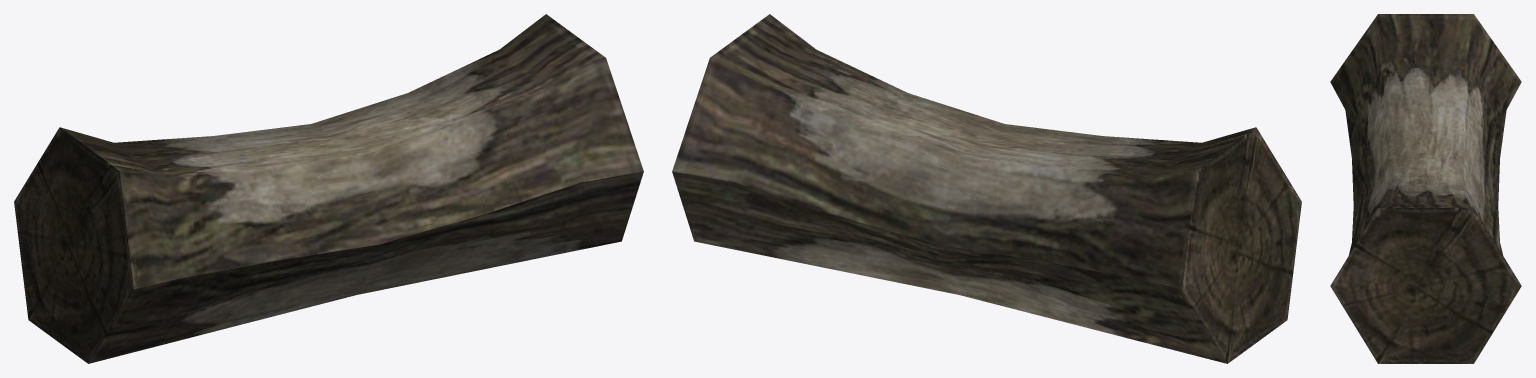
The model's file is Tree.FBX.
3 views of the same model, side by side, from view 1: azimuth 30°, elevation 25°; view 2: azimuth 150°, elevation 25°; view 3: azimuth 270°, elevation 25° (orthographic). The views are drawn at different scales.
Parts seen in each view (by area): view 1: Object05; view 2: Object05; view 3: Object05.
Part boxes in pixels (box(x1,y1,x2,y2)): Object05: box(14, 14, 643, 363); Object05: box(672, 14, 1301, 363); Object05: box(1330, 14, 1521, 363).
Bounding box in the file's own units: 101 × 34.8 × 39.17.
1 material, 1 textured.
